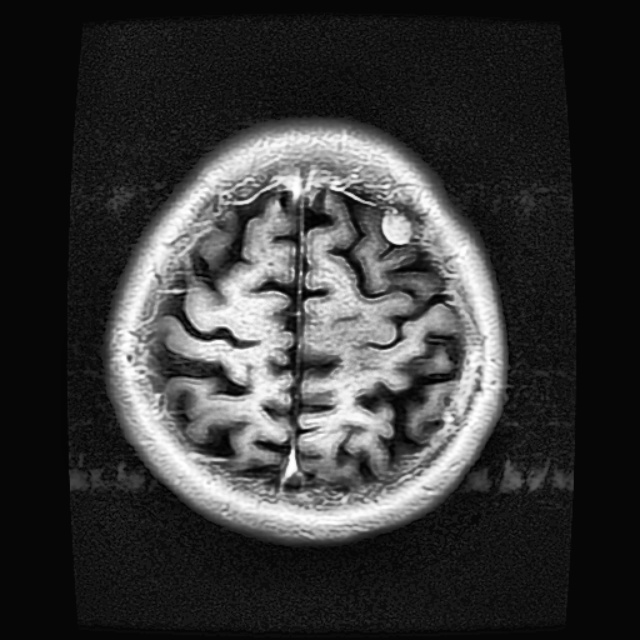Pituitary: (380, 207, 412, 243)
